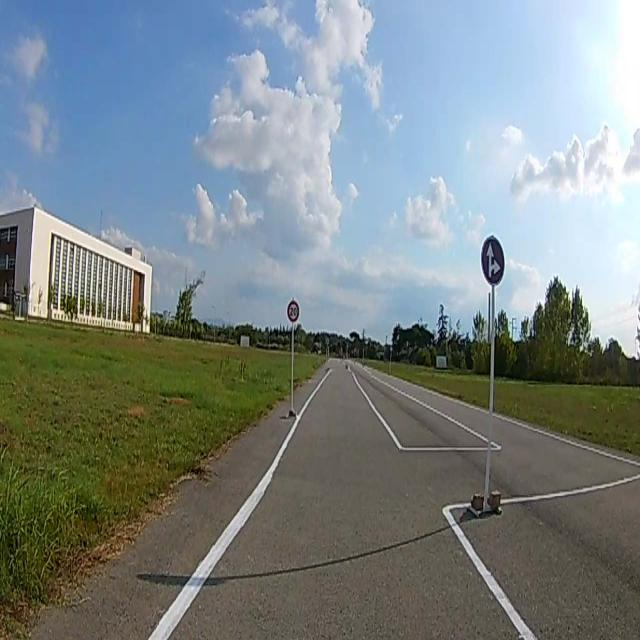20: (287, 300, 299, 322)
ilerisag: (482, 235, 505, 286)
